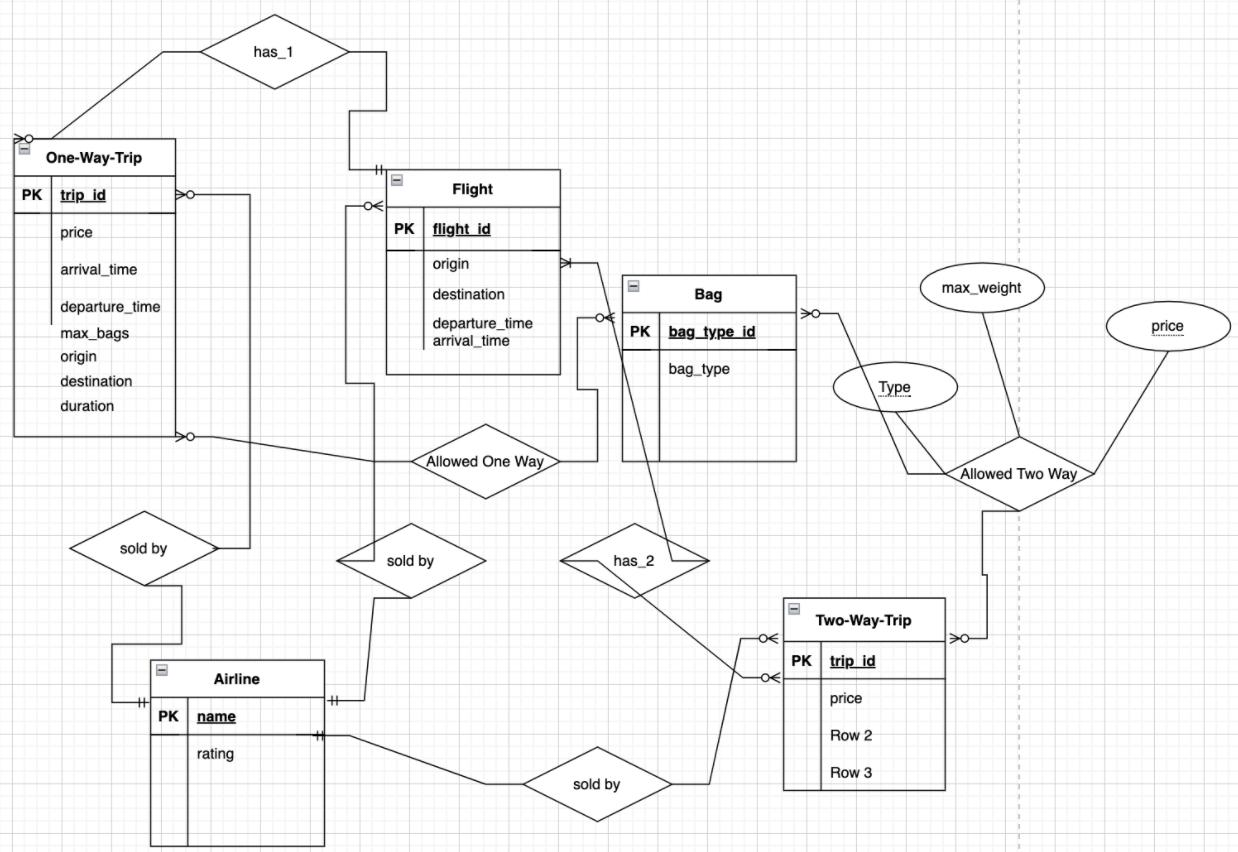attribute: (1105, 299, 1231, 353), (921, 263, 1046, 314), (833, 363, 958, 413)
entity: (10, 134, 178, 440), (382, 165, 564, 379), (149, 655, 329, 852), (619, 270, 801, 463), (779, 595, 949, 793)
relationship: (199, 14, 351, 92), (413, 424, 561, 503), (558, 525, 708, 600), (335, 524, 485, 599), (525, 746, 672, 822), (66, 512, 217, 585), (943, 439, 1093, 512)
